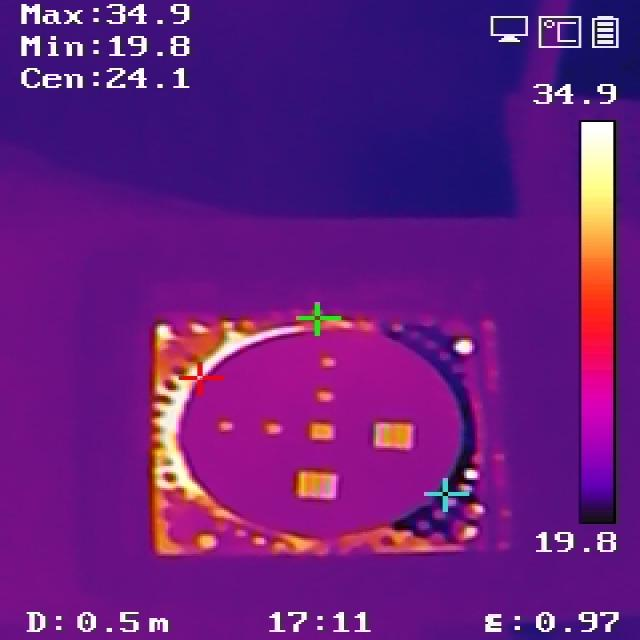Indistinguishable 4-bar target: (311, 425, 333, 442)
threshold 4-bar target: (377, 420, 412, 449), (300, 472, 337, 499)
